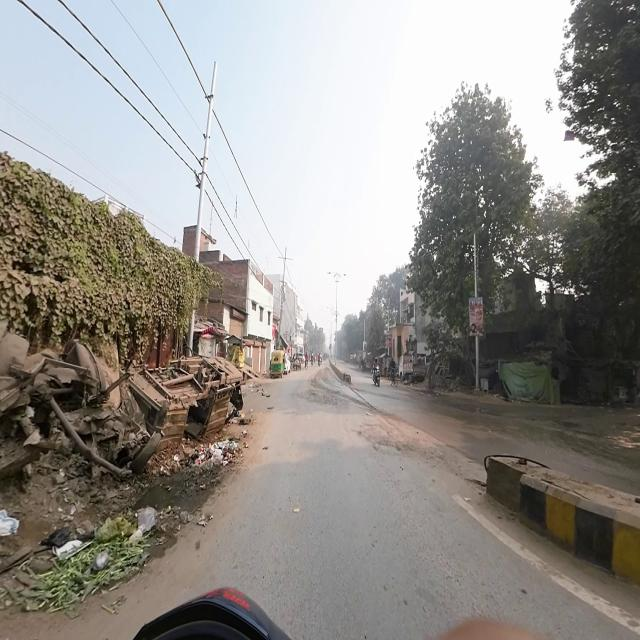Garbage: (1, 502, 156, 602), (182, 436, 247, 479), (159, 500, 217, 532), (237, 406, 256, 426)
